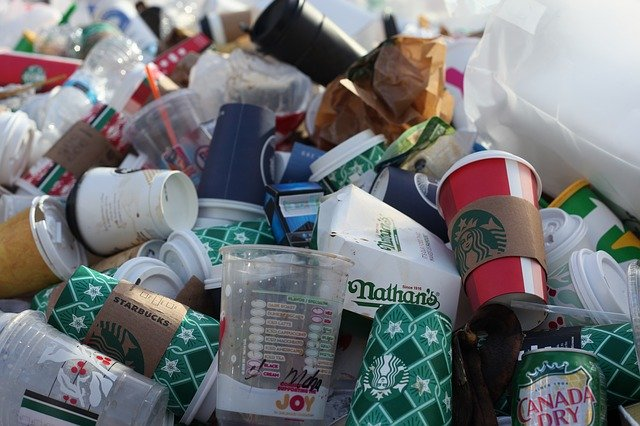cup: (213, 238, 354, 426), (430, 144, 565, 327), (63, 161, 208, 245), (198, 101, 269, 226), (1, 185, 71, 295), (306, 122, 394, 172)
